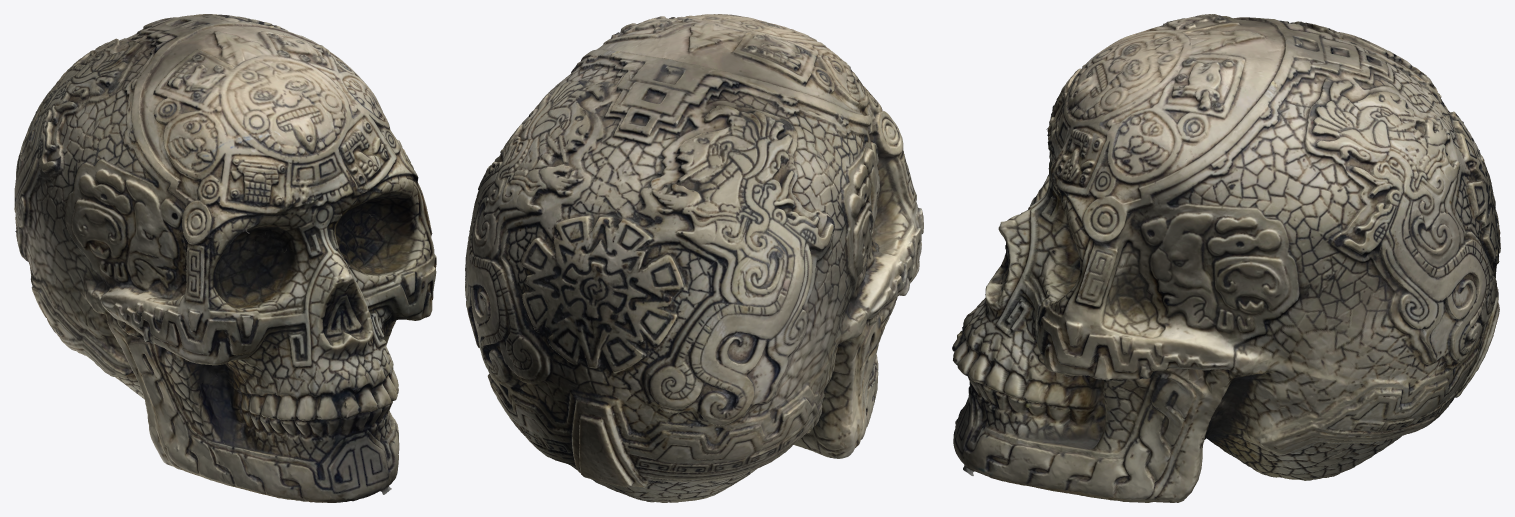
The model's file is x-aztec_skull.glb.
3 renders of one model, left to right at view 1: azimuth 30°, elevation 25°; view 2: azimuth 150°, elevation 25°; view 3: azimuth 270°, elevation 25°, orthographic. The views are drawn at different scales.
Visible parts, largest first — view 1: group_0 (×4); view 2: group_0 (×4); view 3: group_0 (×4).
Boxes of the visible parts, x1=… form: group_0 (×4): x1=14, y1=14, x2=436, y2=502; group_0 (×4): x1=465, y1=14, x2=923, y2=502; group_0 (×4): x1=952, y1=14, x2=1500, y2=502.
Size of the model in its own units: 0.6918 by 0.8202 by 0.9719.
Materials: 1 (1 with a texture image).
